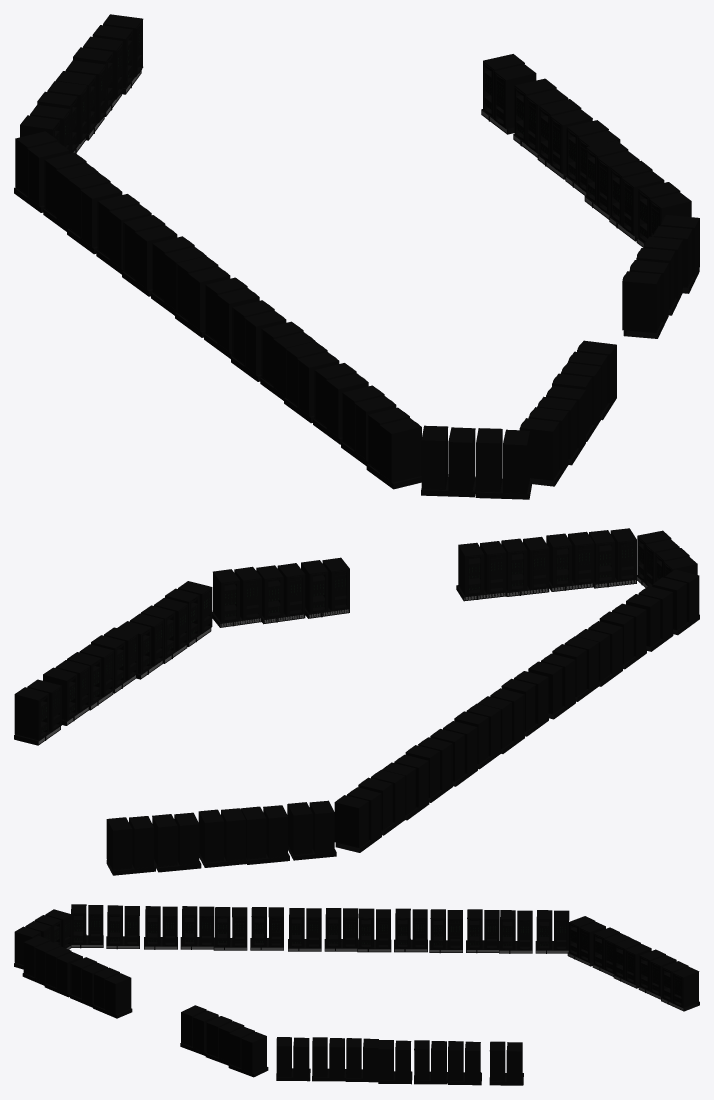
Rendered from GOInc_ServerRacks.fbx.
3 renders of one model, top to bottom at view 1: azimuth 30°, elevation 25°; view 2: azimuth 150°, elevation 25°; view 3: azimuth 270°, elevation 25°, orthographic. The views are drawn at different scales.
Parts seen in each view (by area): view 1: SM_MERGED_ServerRoomSet_BB_005.mo, SM_MERGED_ServerRoomSet_BB_003.mo, SM_MERGED_ServerRoomSet_BB_006.mo, SM_MERGED_ServerRoomSet_BB_001.mo, SM_MERGED_ServerRoomSet_BB_004.mo, SM_MERGED_ServerRoomSet_BB_002.mo; view 2: SM_MERGED_ServerRoomSet_BB_005.mo, SM_MERGED_ServerRoomSet_BB_004.mo, SM_MERGED_ServerRoomSet_BB_001.mo, SM_MERGED_ServerRoomSet_BB_003.mo, SM_MERGED_ServerRoomSet_BB_006.mo, SM_MERGED_ServerRoomSet_BB_002.mo; view 3: SM_MERGED_ServerRoomSet_BB_005.mo, SM_MERGED_ServerRoomSet_BB_001.mo, SM_MERGED_ServerRoomSet_BB_006.mo, SM_MERGED_ServerRoomSet_BB_003.mo, SM_MERGED_ServerRoomSet_BB_004.mo, SM_MERGED_ServerRoomSet_BB_002.mo.
Boxes of the visible parts, x1,y1,x2,y2 form: SM_MERGED_ServerRoomSet_BB_005.mo: [14, 131, 259, 358]; SM_MERGED_ServerRoomSet_BB_003.mo: [421, 340, 616, 499]; SM_MERGED_ServerRoomSet_BB_006.mo: [231, 300, 421, 489]; SM_MERGED_ServerRoomSet_BB_001.mo: [481, 54, 691, 247]; SM_MERGED_ServerRoomSet_BB_004.mo: [20, 14, 143, 153]; SM_MERGED_ServerRoomSet_BB_002.mo: [622, 215, 699, 338]; SM_MERGED_ServerRoomSet_BB_005.mo: [334, 671, 548, 852]; SM_MERGED_ServerRoomSet_BB_004.mo: [106, 800, 336, 875]; SM_MERGED_ServerRoomSet_BB_001.mo: [14, 581, 212, 745]; SM_MERGED_ServerRoomSet_BB_003.mo: [456, 528, 697, 601]; SM_MERGED_ServerRoomSet_BB_006.mo: [528, 569, 699, 719]; SM_MERGED_ServerRoomSet_BB_002.mo: [212, 557, 349, 627]; SM_MERGED_ServerRoomSet_BB_005.mo: [288, 908, 569, 953]; SM_MERGED_ServerRoomSet_BB_001.mo: [276, 1037, 523, 1085]; SM_MERGED_ServerRoomSet_BB_006.mo: [71, 904, 283, 950]; SM_MERGED_ServerRoomSet_BB_003.mo: [14, 909, 132, 1018]; SM_MERGED_ServerRoomSet_BB_004.mo: [567, 916, 699, 1011]; SM_MERGED_ServerRoomSet_BB_002.mo: [180, 1005, 268, 1077].
Size of the model in its own units: 2273 by 247 by 4476.
2 materials, 2 textured.
